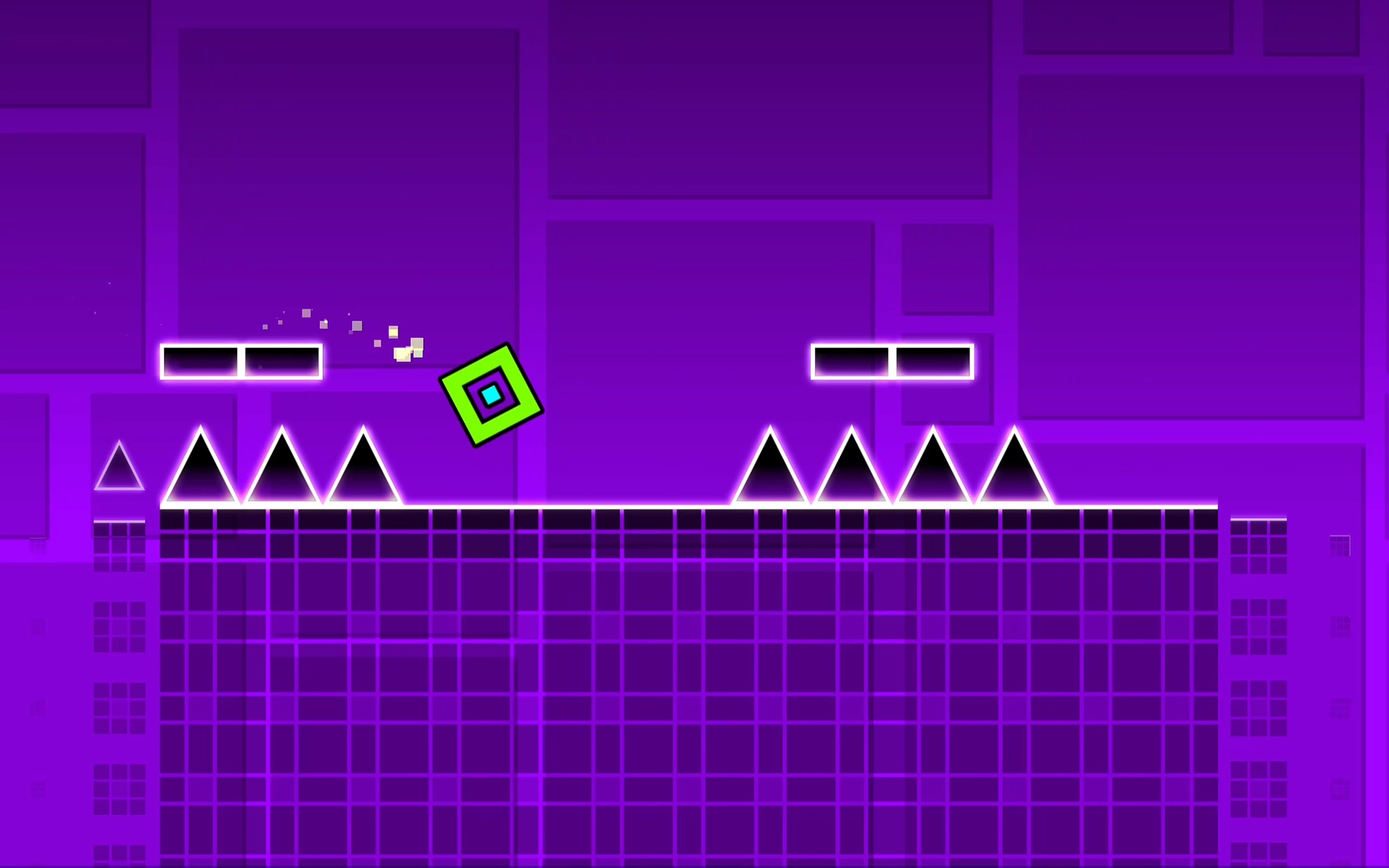Block2: (83, 511, 1295, 868)
Block3: (153, 343, 244, 379), (804, 343, 894, 379), (243, 346, 325, 381), (895, 342, 972, 377)
Player: (439, 344, 543, 445)
Spike: (732, 426, 806, 502), (164, 428, 237, 505), (327, 425, 399, 503), (978, 426, 1050, 503), (244, 426, 317, 501), (898, 427, 970, 501), (816, 427, 888, 501), (95, 441, 143, 489)
